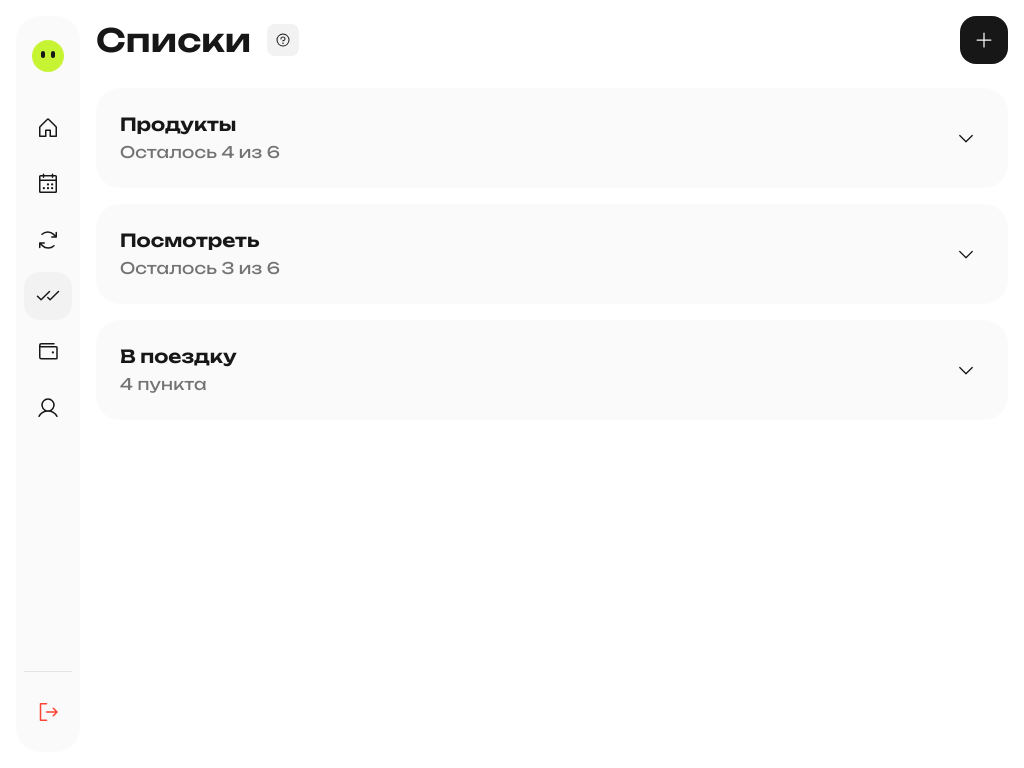
трекер на демо-данных › Списки: список заводится, пункт добавляется и отмечается
Expected: the button "Продукты" is shown, [120,112,932,136]
Click the button named "Добавить список". click: (984, 40)
box: [960,16,1008,64]
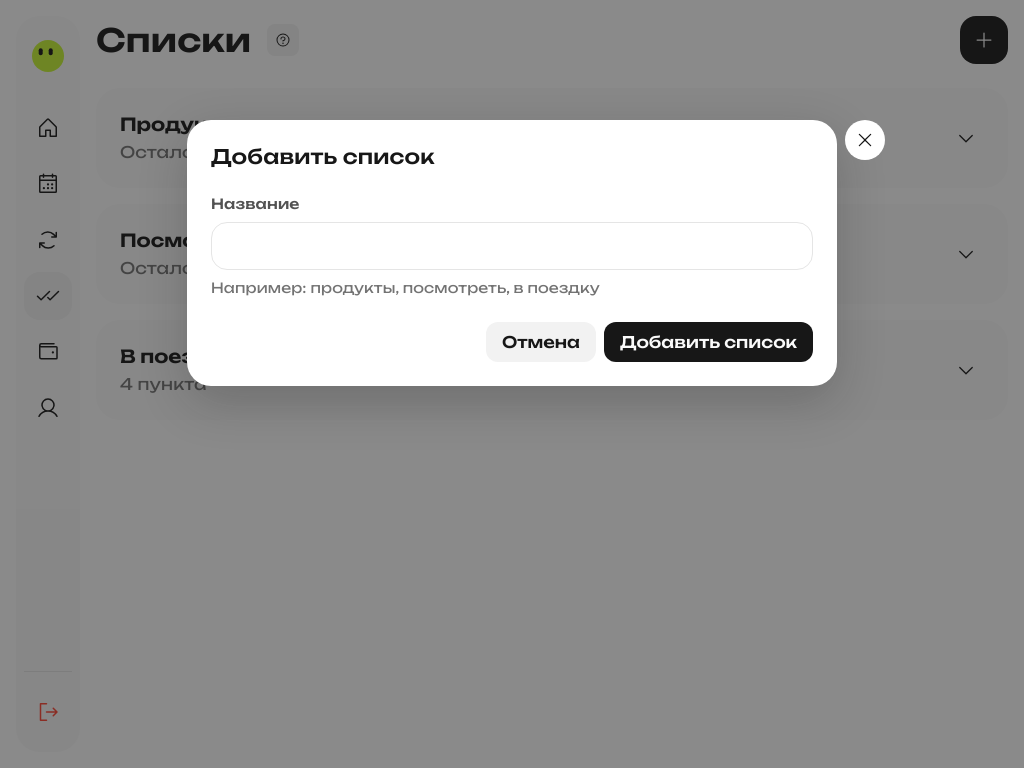
Type "Подарки" into the field labelled "Название". click: (512, 246)
box: [211,222,813,270]
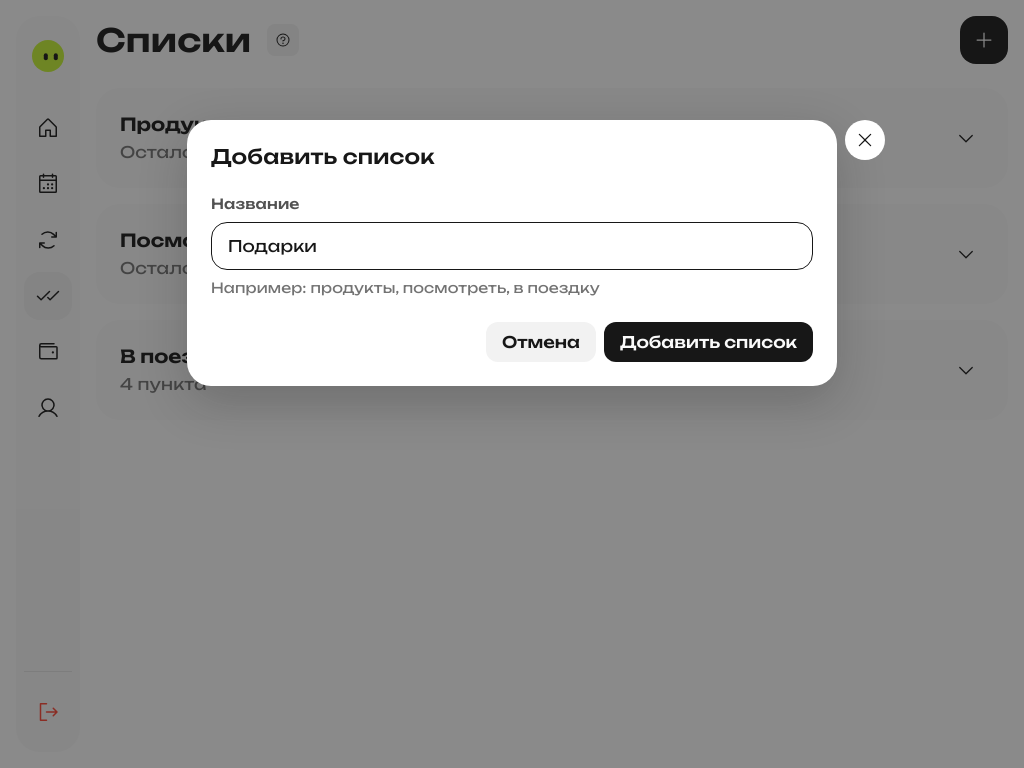
Click the button "Добавить список". click: (708, 342)
box: [604,322,813,362]
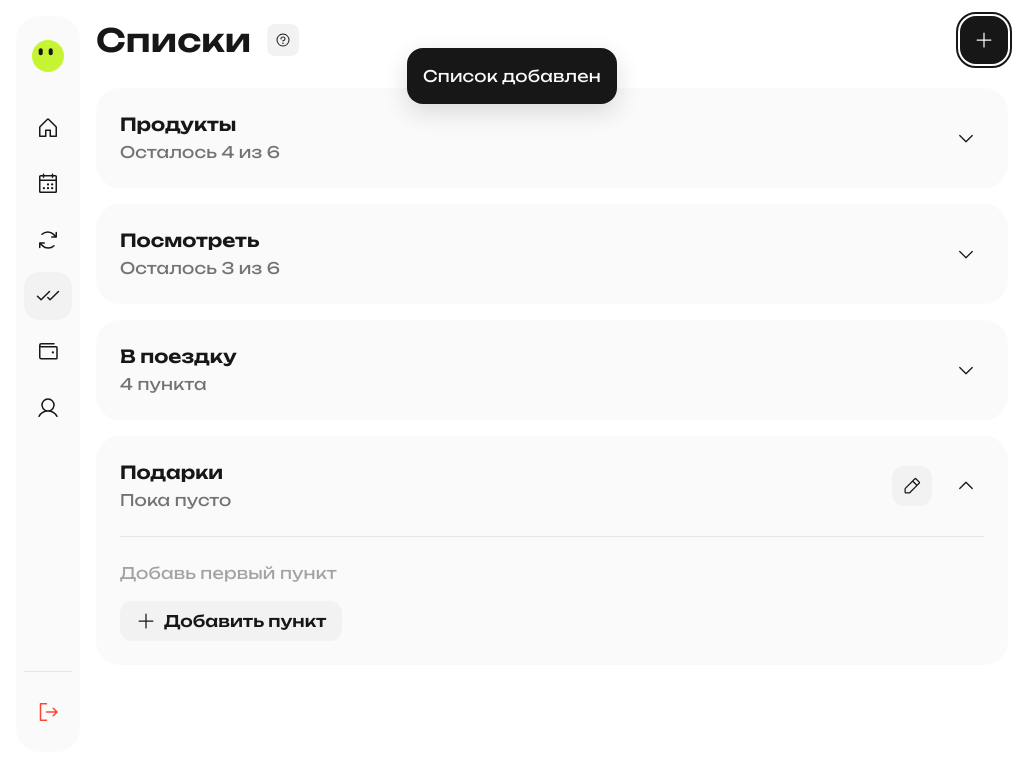
Note: Новый список сразу раскрыт: в него можно добавлять пункты.
Click the button "Добавить пункт". click: (231, 621)
box: [120,601,342,641]
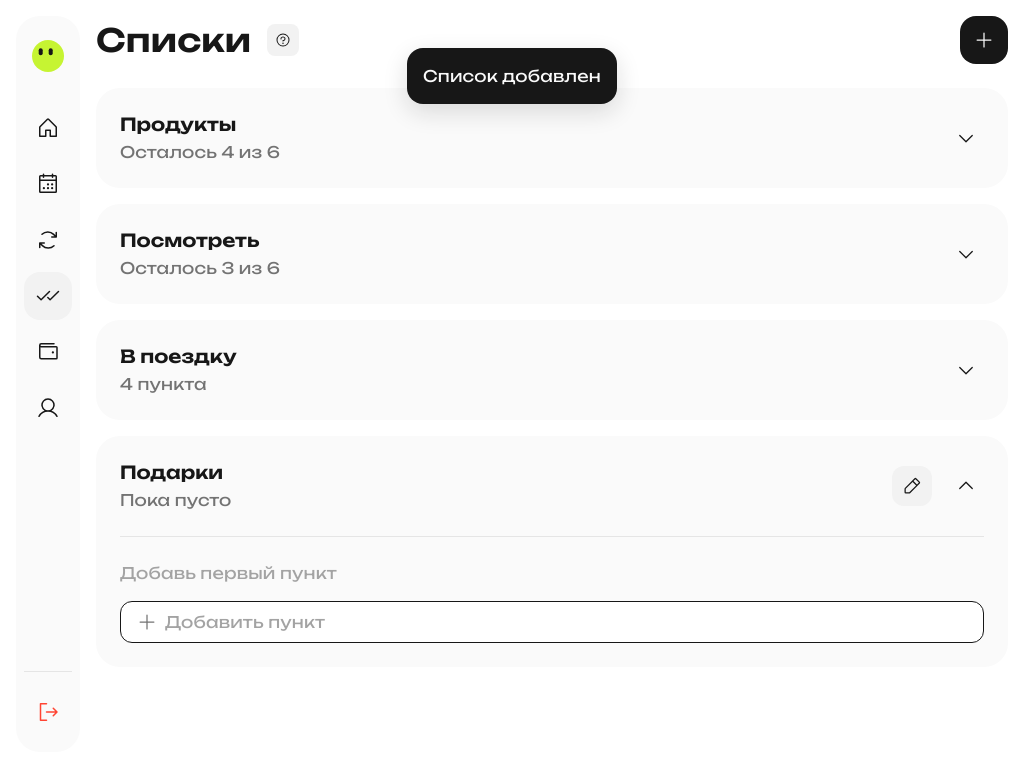
Type "Книга маме" into the text box labelled "Добавить пункт". click: (566, 622)
box: [165,610,967,634]
Then press Enter
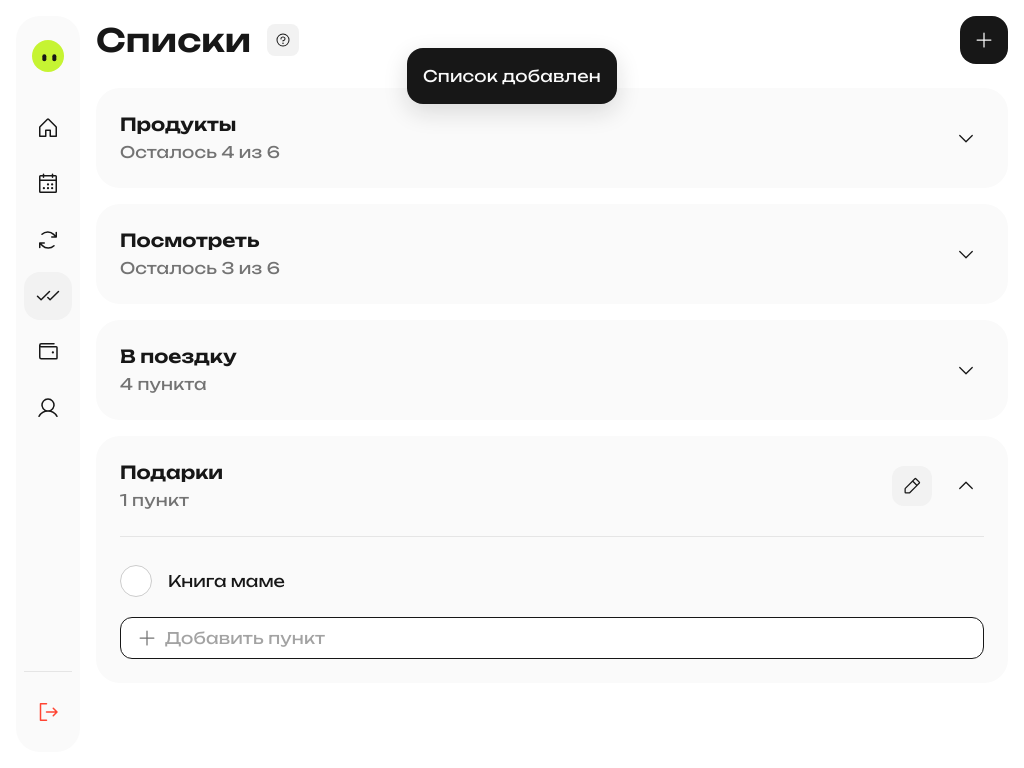
Click the checkbox named "Книга маме". click: (136, 581)
box: [120,565,152,597]
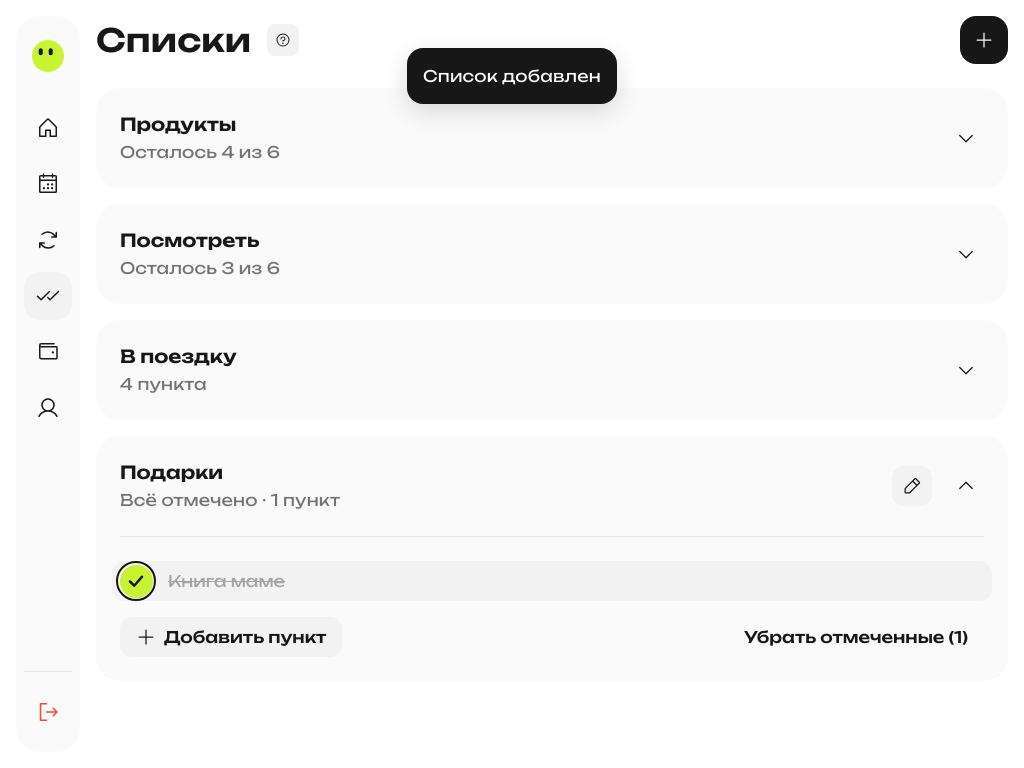
Expected: the button "Убрать отмеченные (1)" is shown, [728,617,984,657]
